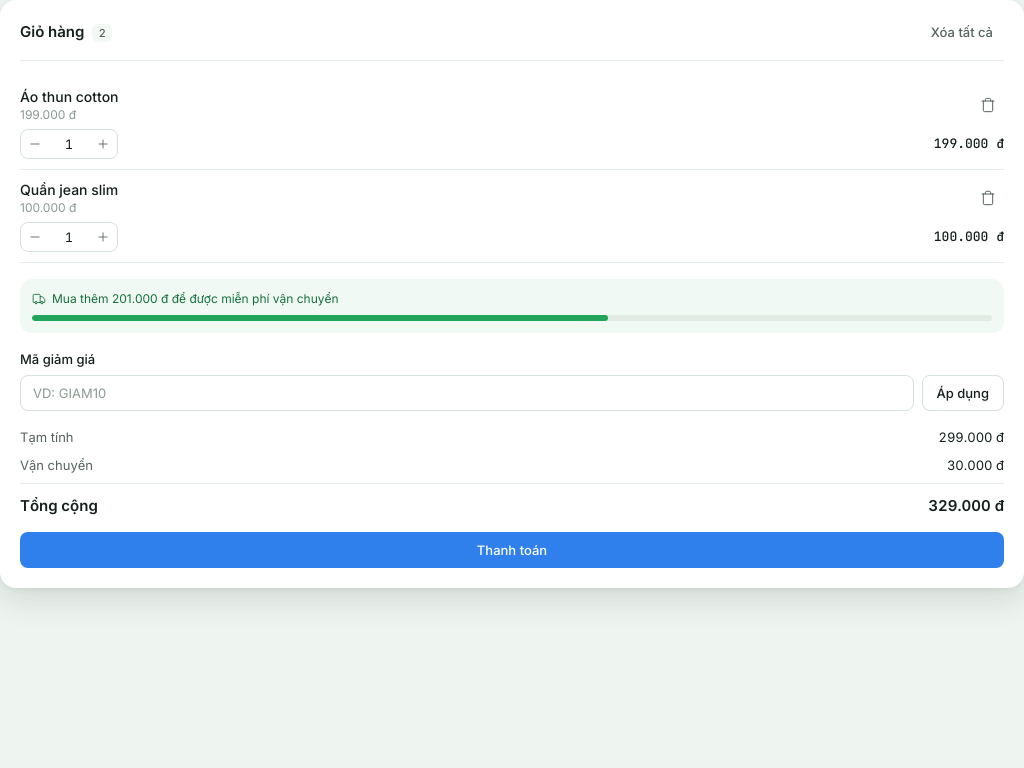
<CartSummary /> › nhập số lượng trực tiếp vào ô số lượng
Step 1. Replace the text in the number field named "Số lượng Áo thun cotton" with "3" → (69, 144), box [49,130,89,158]
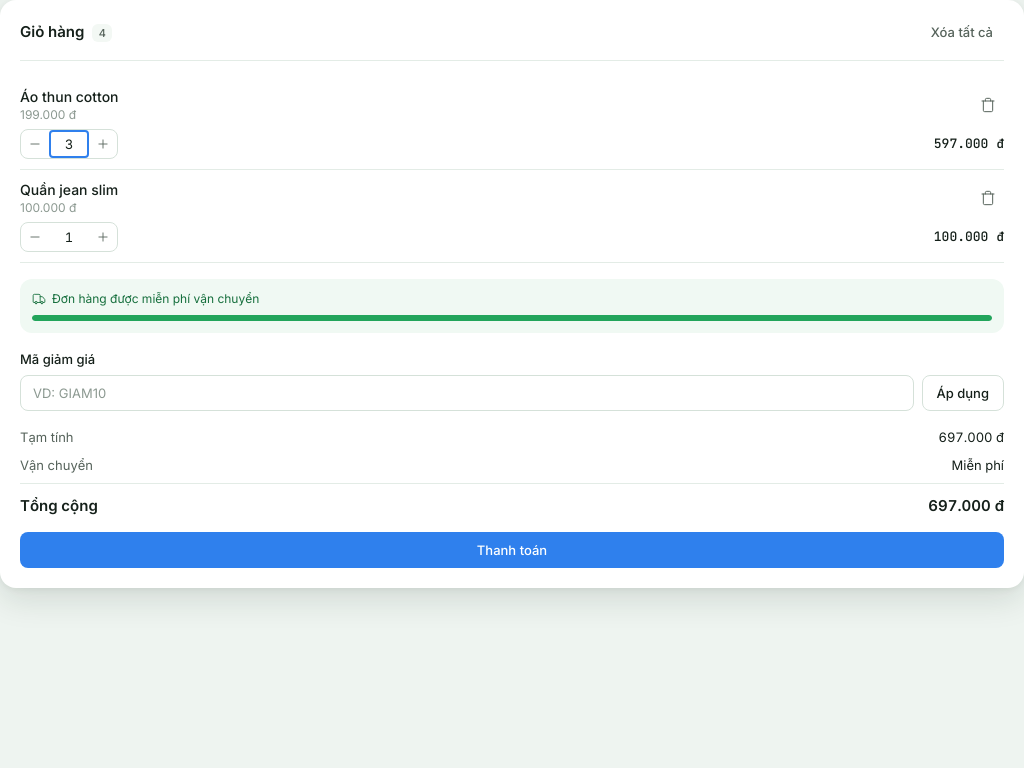
Now the text named "Tổng cộng" reads "697.000 đ", box [928,496,1004,515]
